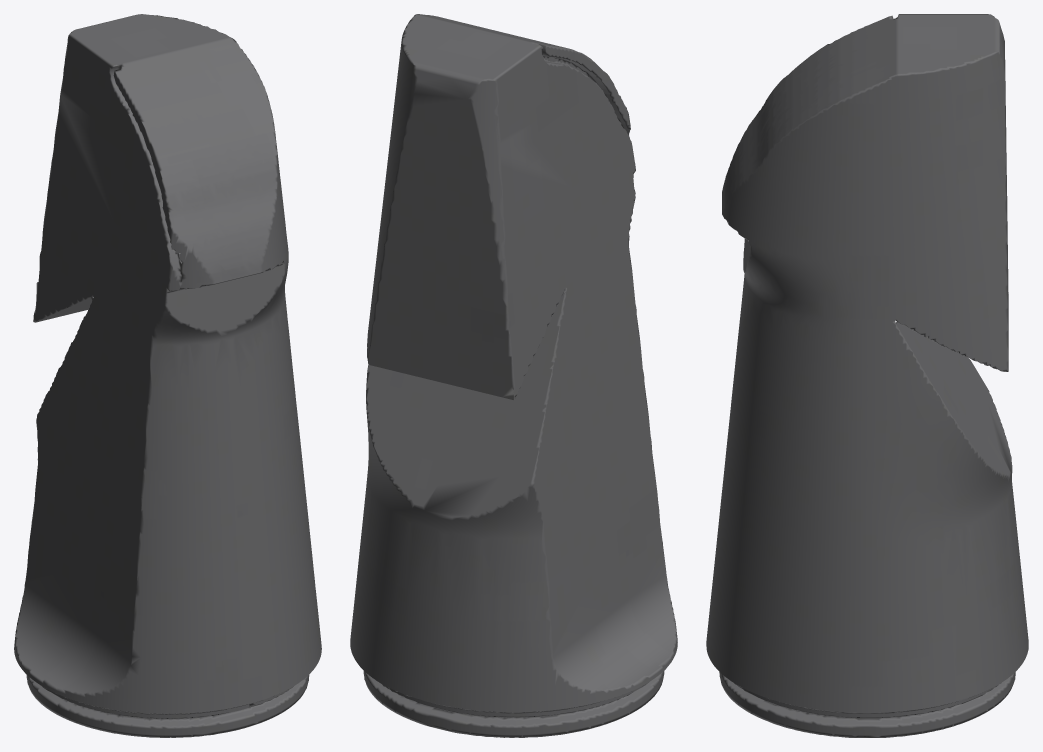
Rendered from knight-black-hd.glb.
3 views of the same model, side by side, from view 1: azimuth 30°, elevation 25°; view 2: azimuth 150°, elevation 25°; view 3: azimuth 270°, elevation 25° (orthographic). The views are drawn at different scales.
Visible parts, largest first — view 1: 04_jezdec_cerna; view 2: 04_jezdec_cerna; view 3: 04_jezdec_cerna.
Part boxes in pixels (x1,y1,x2,y2): 04_jezdec_cerna: (14,14,321,737); 04_jezdec_cerna: (350,14,677,737); 04_jezdec_cerna: (706,14,1028,737).
Bounding box in the file's own units: 0.6416 × 1.41 × 0.6412.
Materials: 1 (1 with a texture image).
